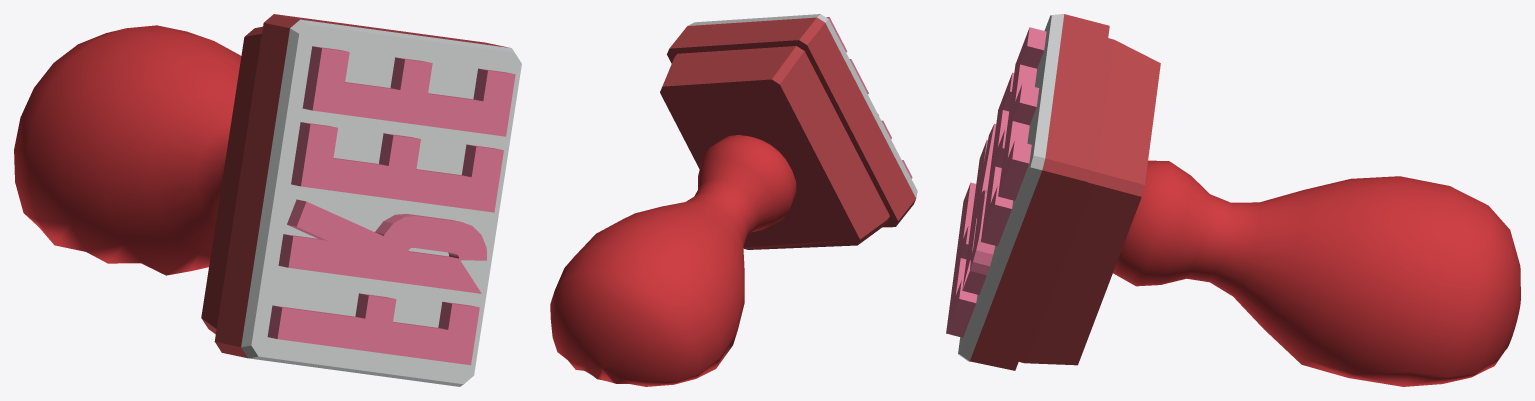
Rendered from cle-free-stamp.glb.
3 renders of one model, left to right at view 1: azimuth 30°, elevation 25°; view 2: azimuth 150°, elevation 25°; view 3: azimuth 270°, elevation 25°, orthographic. The views are drawn at different scales.
Parts seen in each view (by area): view 1: Free Stamp; view 2: Free Stamp; view 3: Free Stamp.
Boxes of the visible parts, <box> form: Free Stamp: <box>14,14,521,386</box>; Free Stamp: <box>550,14,917,386</box>; Free Stamp: <box>946,14,1520,386</box>.
Bounding box in the file's own units: 7.78 × 8.63 × 14.57.
